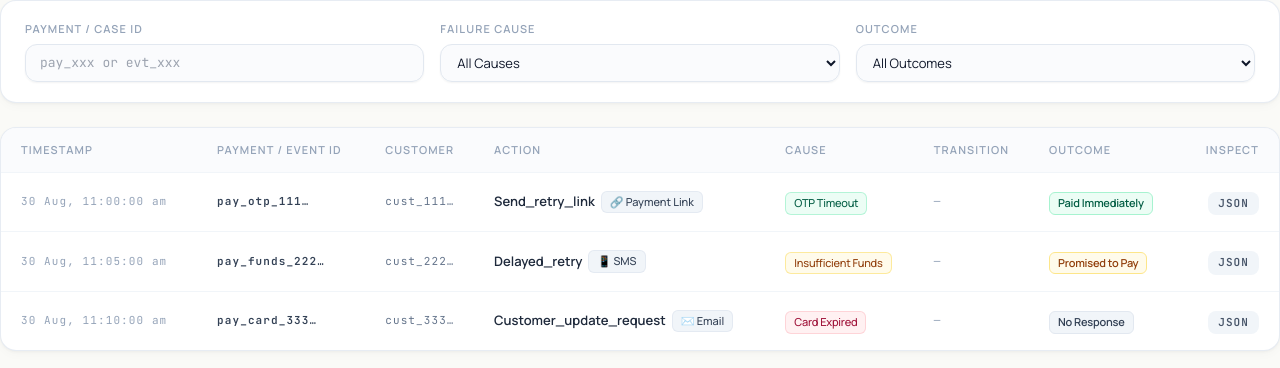
Test: AuditLogView Component › filters table by outcome
Note: Select Outcome filter (combobox 1)
Select "No Response" in the 2nd dropdown: (1055, 63) [856, 44, 1255, 82]
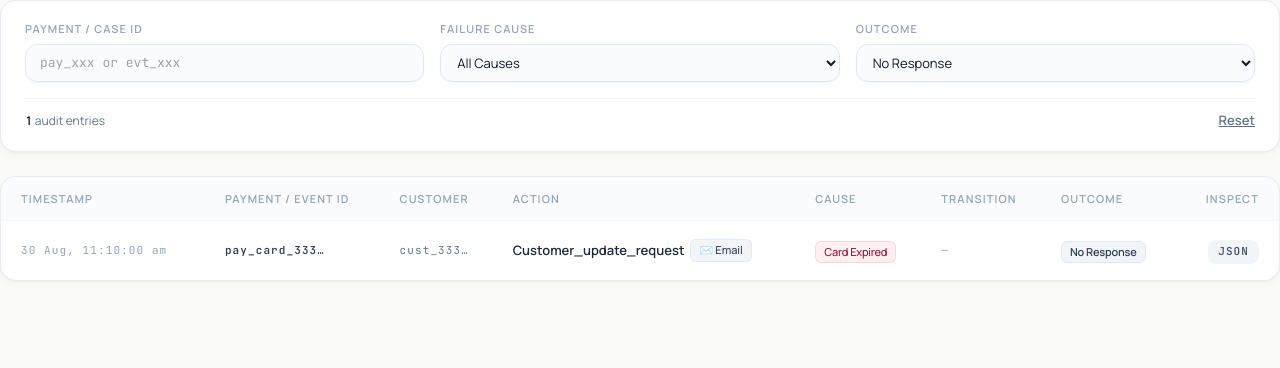
Expected: the button "pay_card_333…" is shown, [225, 243, 325, 258]
Expected: the button "pay_otp_111" is gone
Expected: the button "pay_funds_222" is gone
